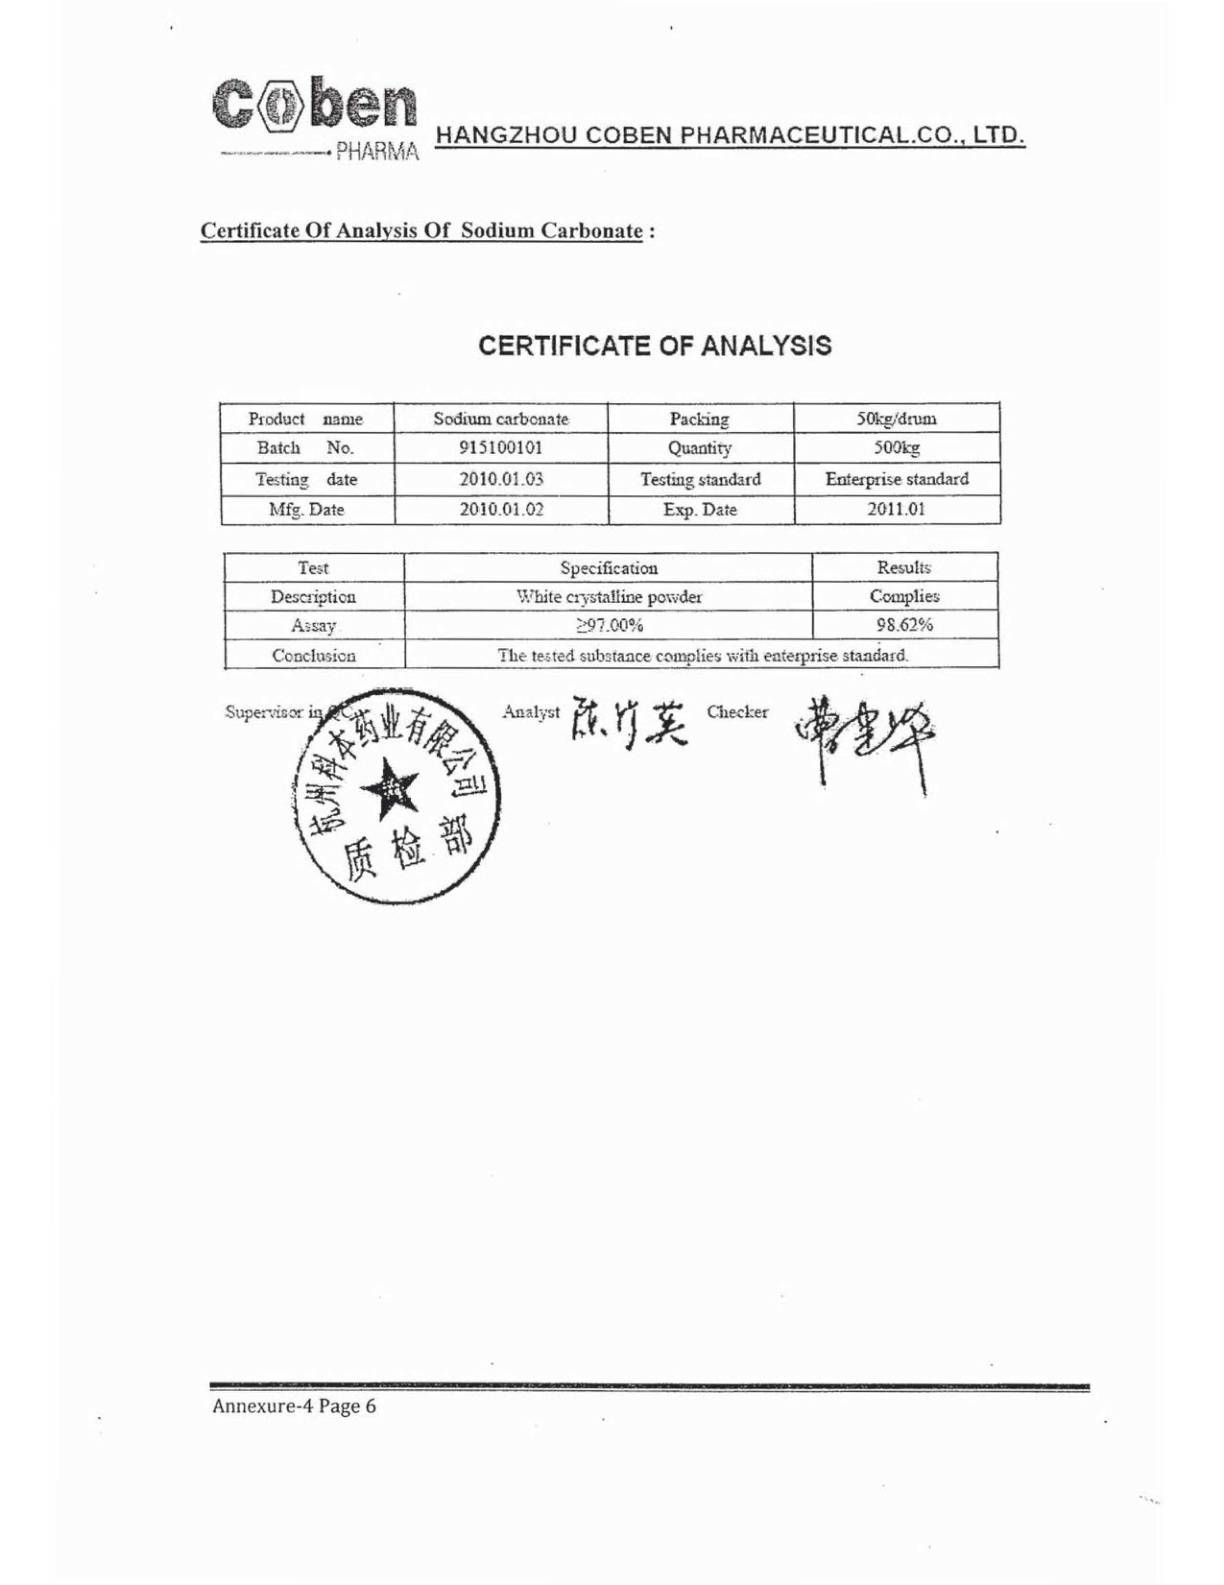full_lined: (217, 400, 1002, 526)
merged_cells: (222, 551, 1000, 670)
